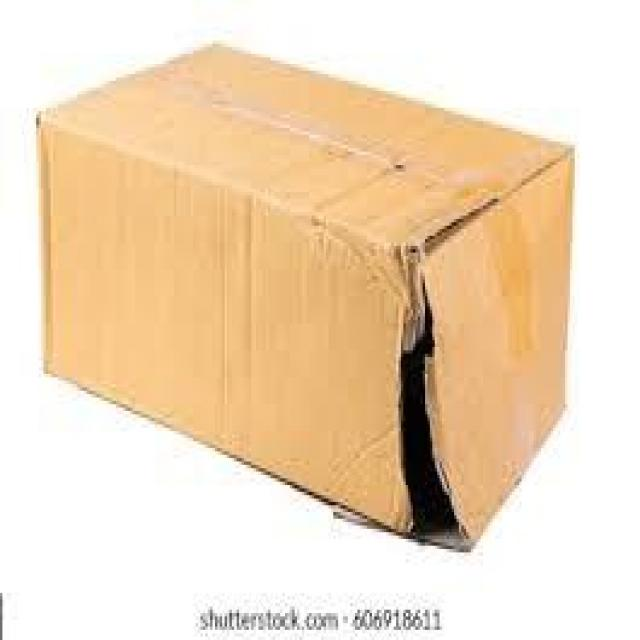damaged: (389, 273, 471, 562)
